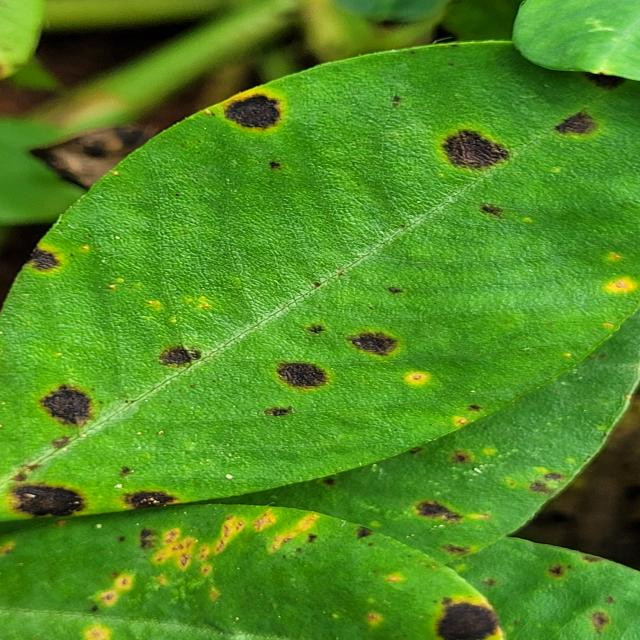Ground nut_tikka leaf spot: (1, 35, 630, 523)
